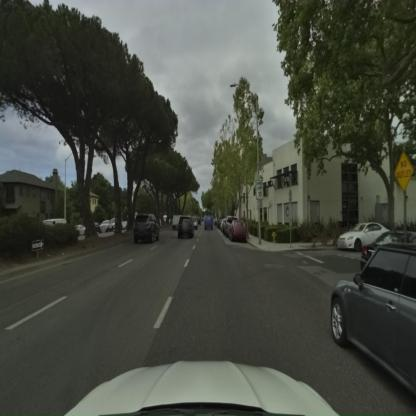car: (328, 238, 415, 412), (337, 223, 395, 253), (134, 214, 160, 243), (226, 218, 248, 243), (176, 215, 195, 239), (99, 220, 115, 233), (204, 216, 212, 230)
